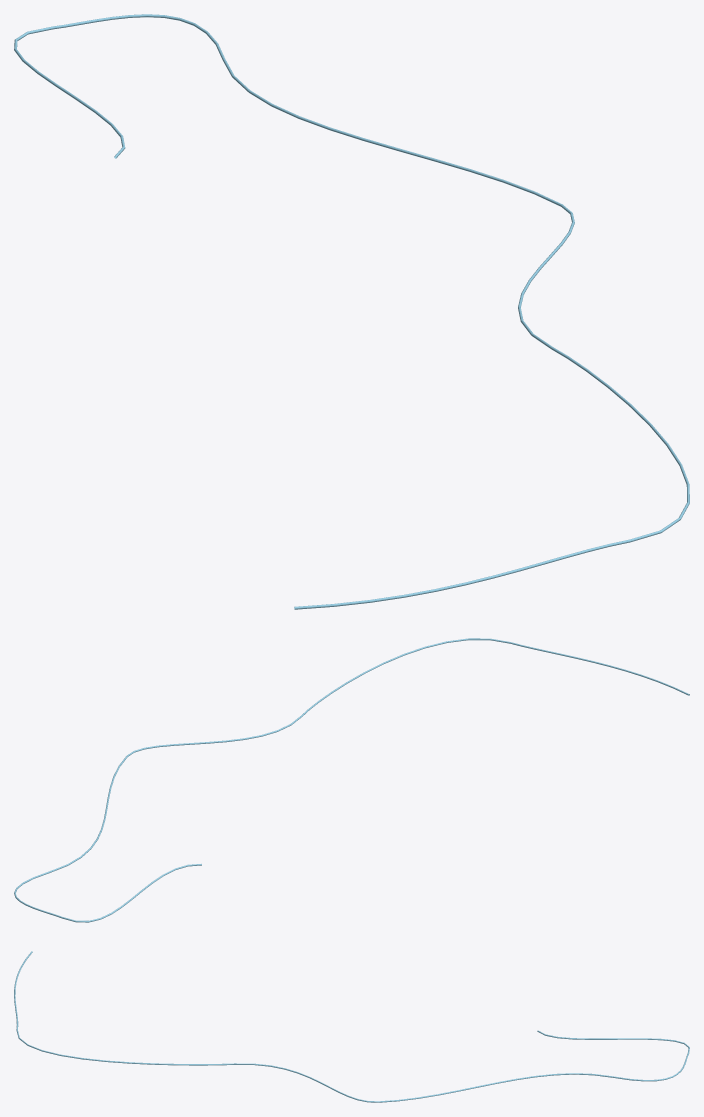
Rendered from wire.fbx.
3 views of the same model, one above another, from view 1: azimuth 30°, elevation 25°; view 2: azimuth 150°, elevation 25°; view 3: azimuth 270°, elevation 25° (orthographic). The views are drawn at different scales.
Visible parts, largest first — view 1: BezierCurve; view 2: BezierCurve; view 3: BezierCurve.
Boxes of the visible parts, x1,y1,x2,y2 form: BezierCurve: [14, 14, 689, 609]; BezierCurve: [14, 638, 689, 922]; BezierCurve: [14, 951, 689, 1102].
Size of the model in its own units: 2410 by 20.3 by 4583.
